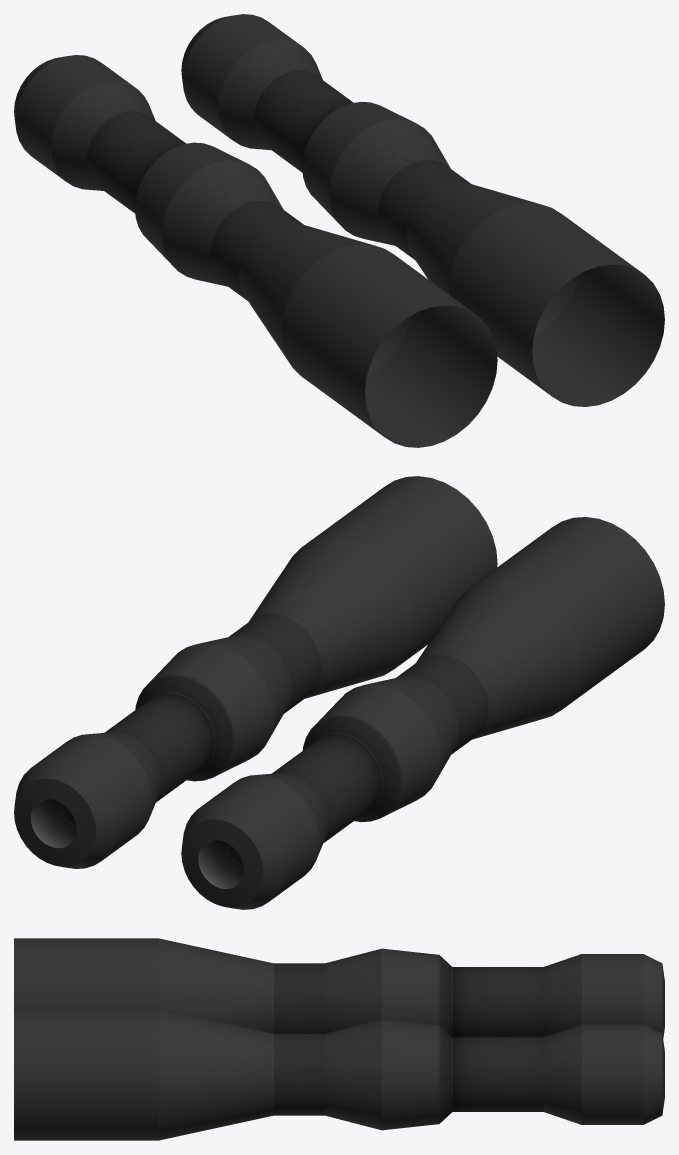
File: Turret1_guns.fbx
3 views of the same model, one above another, from view 1: azimuth 30°, elevation 25°; view 2: azimuth 150°, elevation 25°; view 3: azimuth 270°, elevation 25° (orthographic). The views are drawn at different scales.
Visible parts, largest first — view 1: Turret_Gun_Left, Turret_Gun_Right; view 2: Turret_Gun_Left, Turret_Gun_Right; view 3: Turret_Gun_Right, Turret_Gun_Left.
Part boxes in pixels (left/top/right/bottom): Turret_Gun_Left: left=14, top=55, right=497, bottom=447; Turret_Gun_Right: left=181, top=14, right=664, bottom=406; Turret_Gun_Left: left=181, top=517, right=664, bottom=909; Turret_Gun_Right: left=14, top=476, right=497, bottom=868; Turret_Gun_Right: left=14, top=1008, right=664, bottom=1140; Turret_Gun_Left: left=14, top=938, right=664, bottom=1038.
Size of the model in its own units: 71.72 by 31.72 by 156.
1 material, 1 textured.
